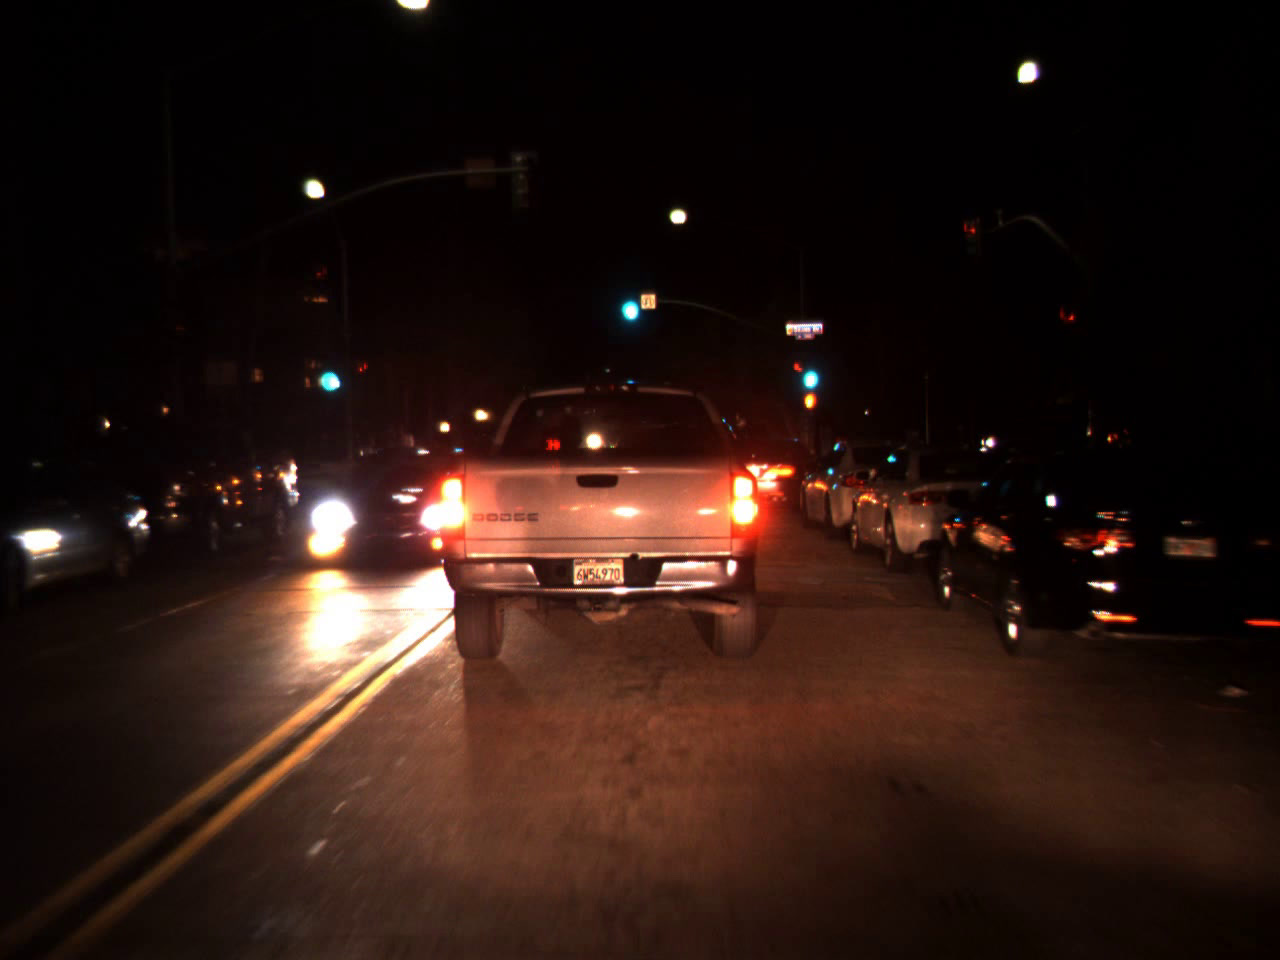go: (615, 276, 642, 327), (315, 347, 340, 398), (797, 348, 822, 396)
